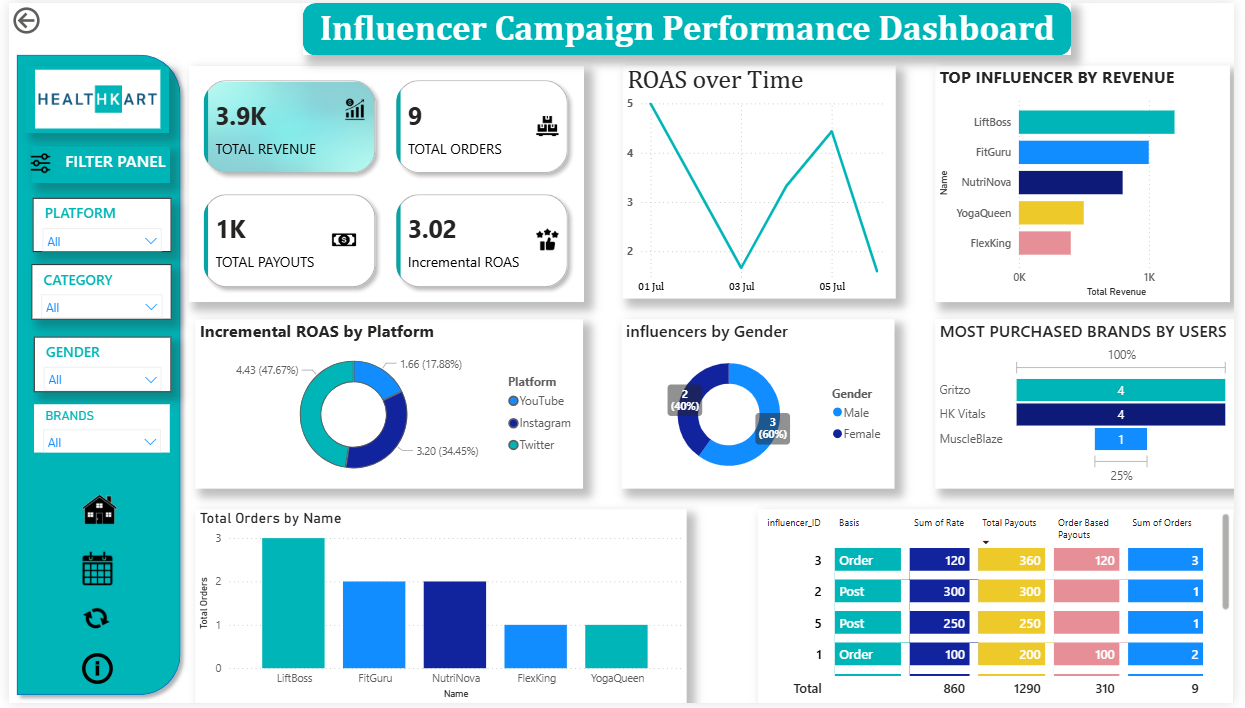

The dashboard page shown, as its layout file describes it:
{"tool":"powerbi","page":{"name":"Main ","canvas":[1400,800],"ordinal":0},"visuals":[{"type":"columnChart","fields":{"Category":["influencer.Name"],"Y":["tracking data.Total Orders"]},"box":[213.3,578.3,561.7,221.7],"z":0},{"type":"tableEx","fields":{"Values":["influencer.influencer_ID","payout.Basis","payout.Rate","payout.Total Payouts","payout.Order Based Payouts","payout.Orders"]},"box":[855,578.3,545,221.7],"z":1000},{"type":"donutChart","fields":{"Y":["tracking data.Incremental ROAS"],"Category":["posts.Platform"]},"box":[213.3,361.7,443.3,193.3],"z":2000},{"type":"actionButton","box":[0,0,100,40],"z":3000},{"type":"shape","box":[0,50,205,750],"z":4000},{"type":"image","box":[18.3,71.7,165,76.7],"z":5000},{"type":"cardVisual","fields":{"Data":["tracking data.Total Revenue","tracking data.Total Orders","payout.Total Payouts","tracking data.Incremental ROAS"]},"box":[205,71.7,451.7,270],"z":6000},{"type":"slicer","fields":{"Values":["influencer.Platform"]},"box":[26.7,223.3,158.3,61.7],"z":7000},{"type":"slicer","fields":{"Values":["influencer.Category"]},"box":[25,298.3,160,63.3],"z":8000},{"type":"slicer","fields":{"Values":["influencer.Gender"]},"box":[28.3,381.7,156.7,63.3],"z":9000},{"type":"image","box":[76.7,556.7,53.3,43.3],"z":10000},{"type":"actionButton","box":[78.3,735,45,50],"z":11000},{"type":"image","box":[61.7,665,76.7,78.3],"z":12000},{"type":"image","box":[76.7,621.7,48.3,50],"z":13000},{"type":"image","box":[6.7,161.7,58.3,43.3],"z":14000},{"type":"textbox","box":[25,163.3,158.3,43.3],"z":15000},{"type":"barChart","title":"TOP INFLUENCER BY REVENUE ","fields":{"Category":["influencer.Name"],"Y":["tracking data.Total Revenue"]},"box":[1058.3,71.7,336.7,270],"z":16000},{"type":"funnel","title":"MOST PURCHASED BRANDS BY USERS","fields":{"Category":["tracking data.Brands"],"Y":["tracking data.Total Orders"]},"box":[1058.3,361.7,341.7,193.3],"z":17000},{"type":"lineChart","title":"ROAS over Time","fields":{"Category":["posts.Date.Variation.Date Hierarchy.Year","posts.Date.Variation.Date Hierarchy.Quarter","posts.Date.Variation.Date Hierarchy.Month","posts.Date.Variation.Date Hierarchy.Day"],"Y":["tracking data.Incremental ROAS"]},"box":[701.7,71.7,311.7,266.7],"z":18000},{"type":"donutChart","title":"influencers by Gender","fields":{"Category":["influencer.Gender"],"Y":["tracking data.Measure"]},"box":[700,361.7,311.7,193.3],"z":19000},{"type":"slicer","fields":{"Values":["tracking data.Brands"]},"box":[28.3,458.3,155,55],"z":20000},{"type":"shape","box":[335.7,0,878.6,60],"z":21000}]}

Visuals, with their boxes in screenshot pixels (x1, y1, x2, y2), scaled from the page's 1400x800 canvas onto the 1245x708 screenshot:
columnChart - influencer.Name x tracking data.Total Orders: select_region(190, 512, 689, 707)
tableEx - influencer.influencer_ID x payout.Basis: select_region(760, 512, 1244, 707)
donutChart - tracking data.Incremental ROAS x posts.Platform: select_region(190, 320, 584, 491)
actionButton: select_region(0, 0, 89, 35)
shape: select_region(0, 44, 182, 707)
image: select_region(16, 63, 163, 131)
cardVisual - tracking data.Total Revenue x tracking data.Total Orders: select_region(182, 63, 584, 302)
slicer - influencer.Platform: select_region(24, 198, 165, 252)
slicer - influencer.Category: select_region(22, 264, 165, 320)
slicer - influencer.Gender: select_region(25, 338, 165, 394)
image: select_region(68, 493, 116, 531)
actionButton: select_region(70, 650, 110, 695)
image: select_region(55, 589, 123, 658)
image: select_region(68, 550, 111, 594)
image: select_region(6, 143, 58, 181)
textbox: select_region(22, 145, 163, 183)
"TOP INFLUENCER BY REVENUE " barChart: select_region(941, 63, 1241, 302)
"MOST PURCHASED BRANDS BY USERS" funnel: select_region(941, 320, 1244, 491)
"ROAS over Time" lineChart: select_region(624, 63, 901, 299)
"influencers by Gender" donutChart: select_region(622, 320, 900, 491)
slicer - tracking data.Brands: select_region(25, 406, 163, 454)
shape: select_region(299, 0, 1080, 53)
